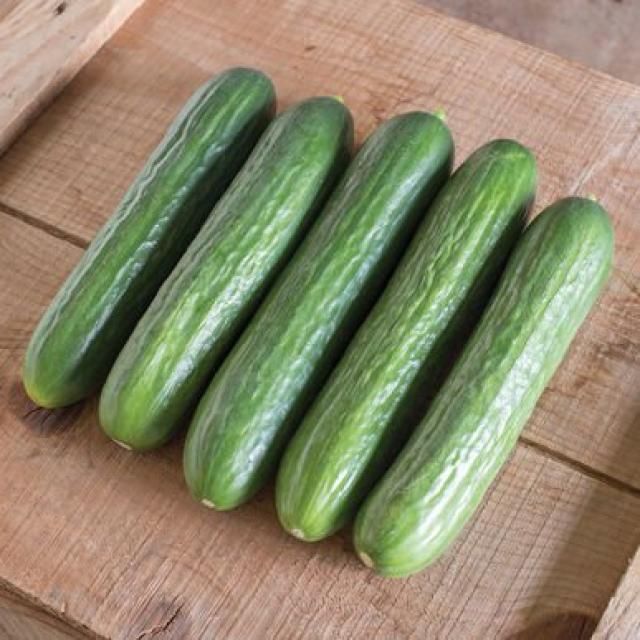cucumber: (22, 68, 616, 578)
